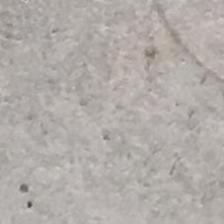Non_Crack: (42, 36, 200, 203)
